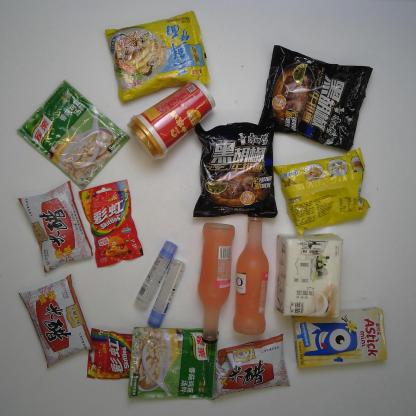Alcohol: (196, 223, 236, 344), (233, 212, 270, 336)
Candy: (78, 181, 145, 268), (83, 326, 138, 382)
Dessert: (289, 306, 388, 370)
Instant Drink: (127, 78, 216, 160)
Instant Noodles: (256, 44, 376, 151), (188, 118, 284, 221), (104, 10, 210, 103), (272, 148, 372, 238)
Seasoner: (16, 79, 132, 191), (126, 323, 220, 404), (16, 179, 94, 273), (17, 273, 94, 366), (212, 335, 290, 400)
Stationery: (134, 240, 178, 310), (148, 260, 186, 328)
Tissue: (274, 233, 342, 321)
